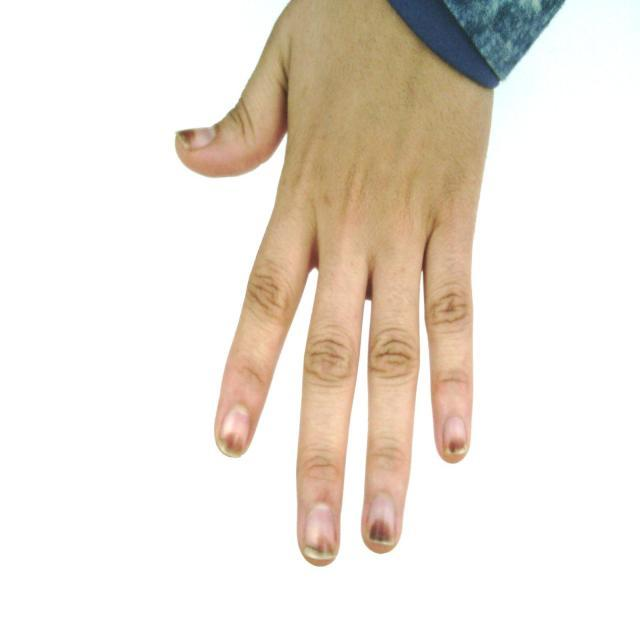Fingernail: (304, 505, 337, 563), (220, 406, 250, 457), (368, 495, 396, 545), (444, 418, 467, 455), (178, 127, 216, 149)
